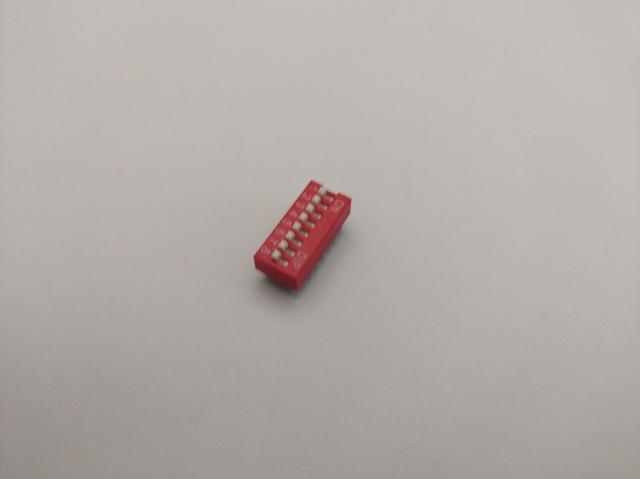dip_switch: (252, 180, 352, 292)
